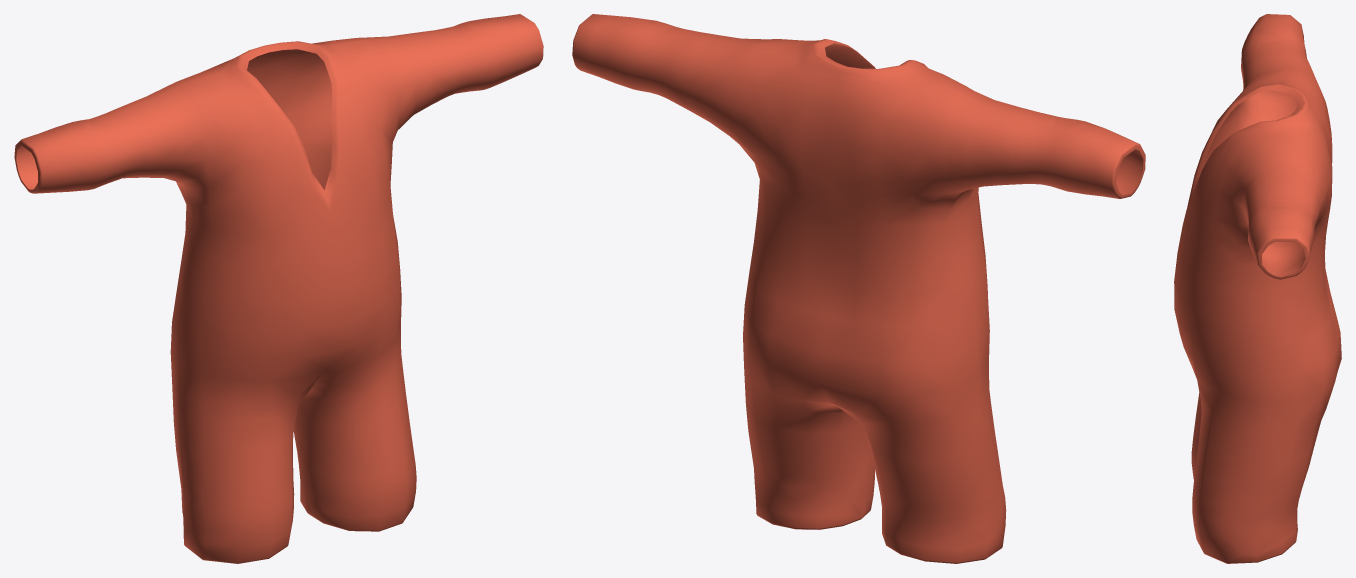
File: asian_comb.fbx
3 views of the same model, side by side, from view 1: azimuth 30°, elevation 25°; view 2: azimuth 150°, elevation 25°; view 3: azimuth 270°, elevation 25° (orthographic). The views are drawn at different scales.
Parts seen in each view (by area): view 1: asian_comb; view 2: asian_comb; view 3: asian_comb.
Boxes of the visible parts, box(x1,y1,x2,y2) form: asian_comb: box(14, 14, 543, 563); asian_comb: box(572, 14, 1145, 563); asian_comb: box(1174, 14, 1341, 563).
Bounding box in the file's own units: 1.91 × 1.65 × 0.6034.
